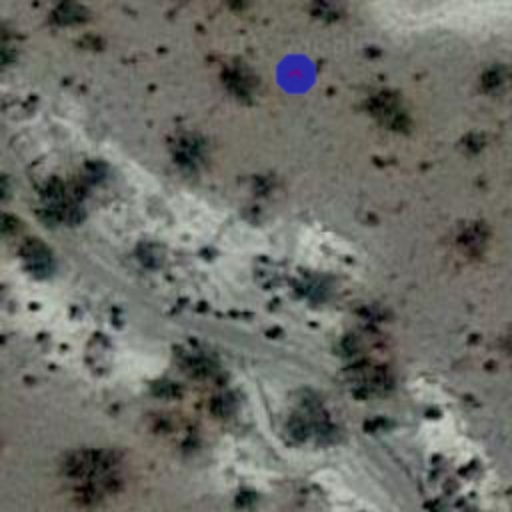octagon: (266, 44, 326, 104)
